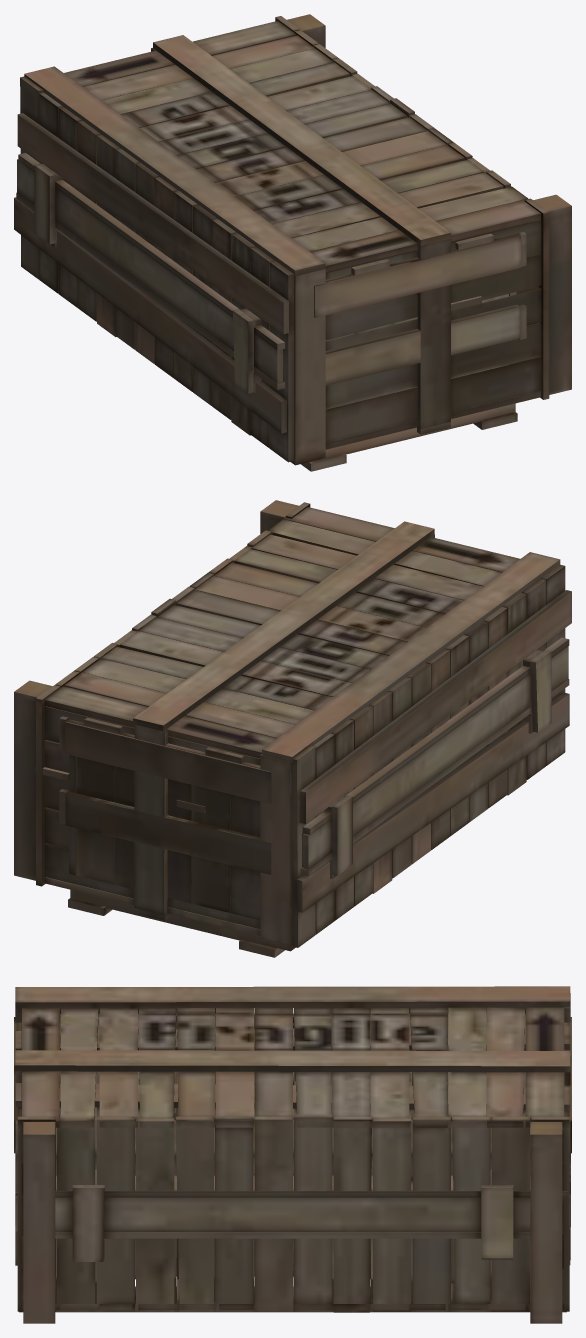
File: wood_box.glb
The picture shows the model from 3 angles, top to bottom: view 1: azimuth 30°, elevation 25°; view 2: azimuth 150°, elevation 25°; view 3: azimuth 270°, elevation 25°; orthographic projection. The views are drawn at different scales.
Parts seen in each view (by area): view 1: crate0, crate1, crate3; view 2: crate0, crate1, crate3; view 3: crate0, crate3, crate1.
Part boxes in pixels (<box>): crate0: <box>14,14,571,465</box>; crate1: <box>301,232,526,471</box>; crate3: <box>16,152,539,393</box>; crate0: <box>14,500,571,951</box>; crate1: <box>59,716,284,957</box>; crate3: <box>35,637,569,878</box>; crate0: <box>15,986,570,1323</box>; crate3: <box>55,1072,567,1261</box>; crate1: <box>14,1013,571,1312</box>.
Size of the model in its own units: 2.54 by 1.67 by 3.98.
Materials: 1 (1 with a texture image).
